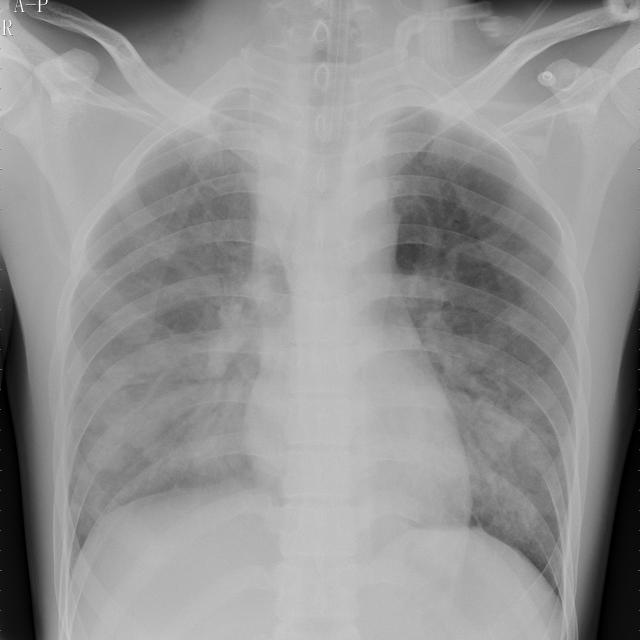high-pneumonia: (384, 85, 500, 198), (165, 73, 277, 190)
low-pneumonia: (407, 259, 549, 531), (177, 300, 262, 481)
